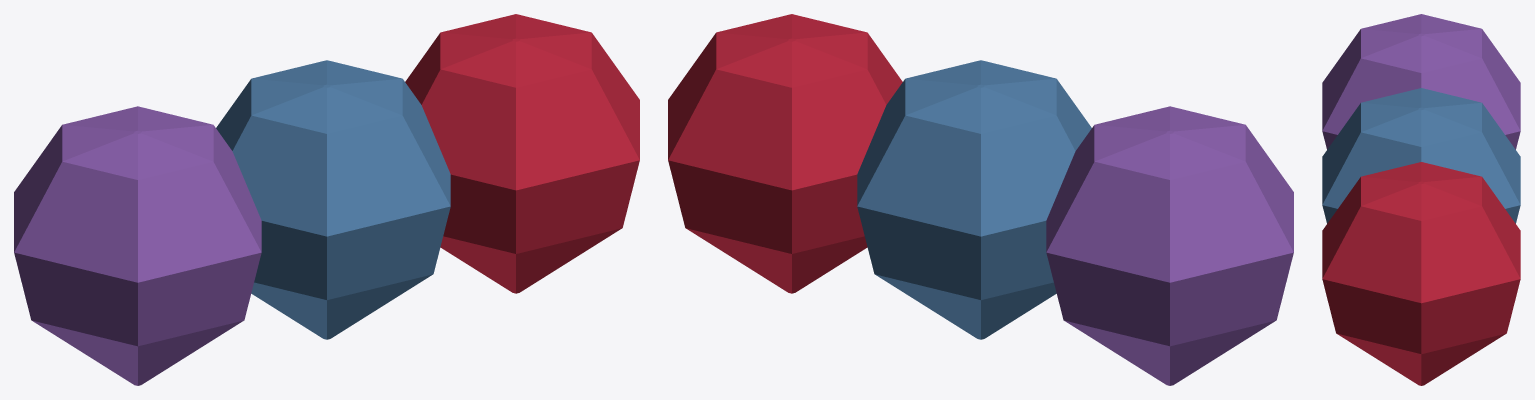
Rendered from edible-gems.glb.
3 renders of one model, left to right at view 1: azimuth 30°, elevation 25°; view 2: azimuth 150°, elevation 25°; view 3: azimuth 270°, elevation 25°, orthographic. The views are drawn at different scales.
Parts seen in each view (by area): view 1: edible_gem, edible_gem.002, edible_gem.001; view 2: edible_gem, edible_gem.002, edible_gem.001; view 3: edible_gem.002, edible_gem, edible_gem.001.
Part boxes in pixels (x1,y1,x2,y2): edible_gem: (14, 106, 261, 385); edible_gem.002: (405, 14, 639, 293); edible_gem.001: (216, 60, 450, 339); edible_gem: (1046, 106, 1293, 385); edible_gem.002: (668, 14, 902, 293); edible_gem.001: (857, 60, 1091, 339); edible_gem.002: (1322, 162, 1520, 385); edible_gem: (1322, 14, 1520, 149); edible_gem.001: (1322, 88, 1520, 223).
Bounding box in the file's own units: 0.182 × 0.07 × 0.0624.
